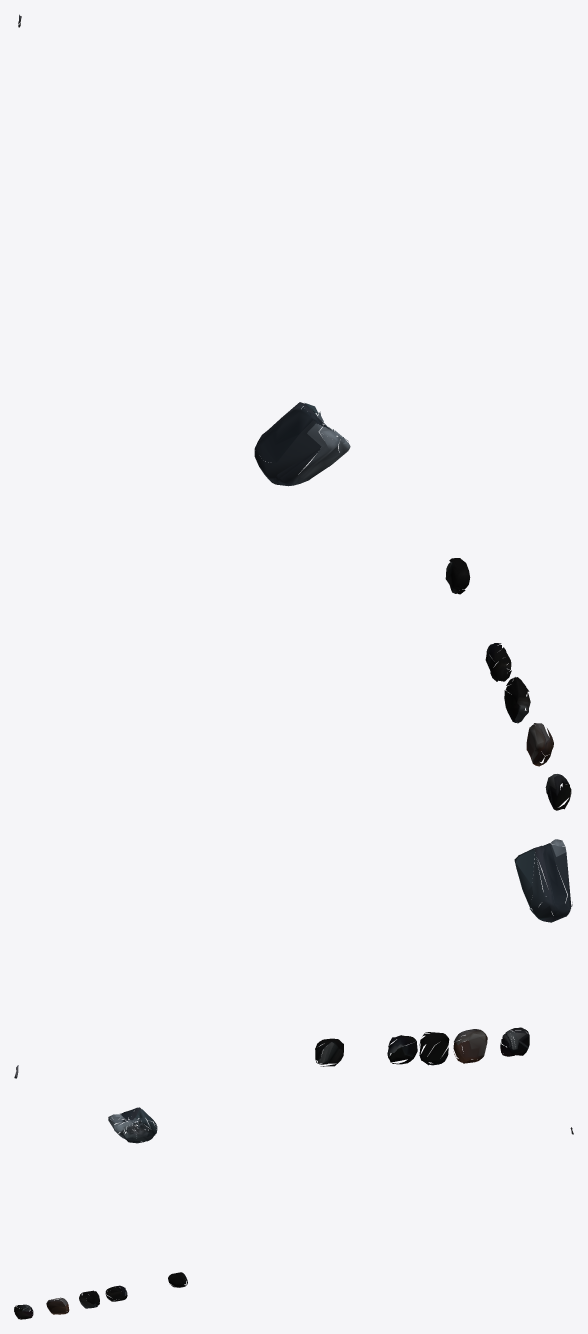
Rendered from colony_ship_3.glb.
The picture shows the model from 3 angles, top to bottom: view 1: azimuth 30°, elevation 25°; view 2: azimuth 150°, elevation 25°; view 3: azimuth 270°, elevation 25°; orthographic projection. The views are drawn at different scales.
Parts seen in each view (by area): view 1: colony_ship_3; view 2: colony_ship_3; view 3: colony_ship_3.
Boxes of the visible parts, x1,y1,x2,y2 form: colony_ship_3: [18, 14, 571, 810]; colony_ship_3: [14, 839, 572, 1078]; colony_ship_3: [14, 1107, 573, 1319].
Size of the model in its own units: 0.0508 by 0.0785 by 0.2045.
1 material, 1 textured.
